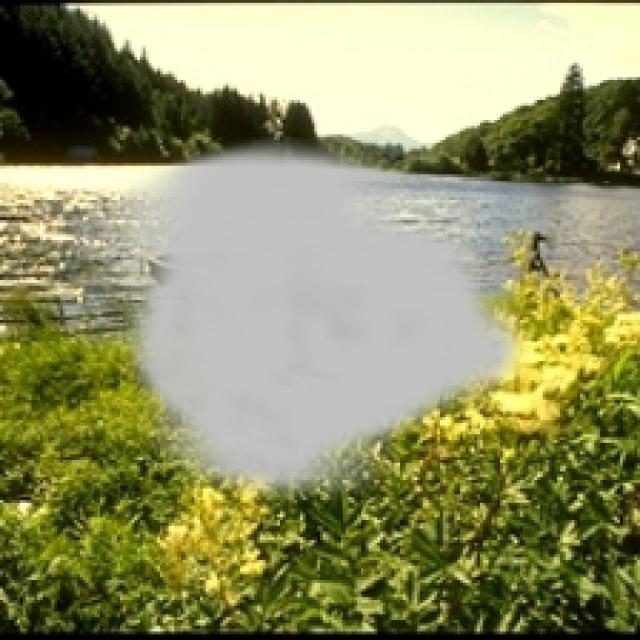smoke: (120, 137, 531, 509)
